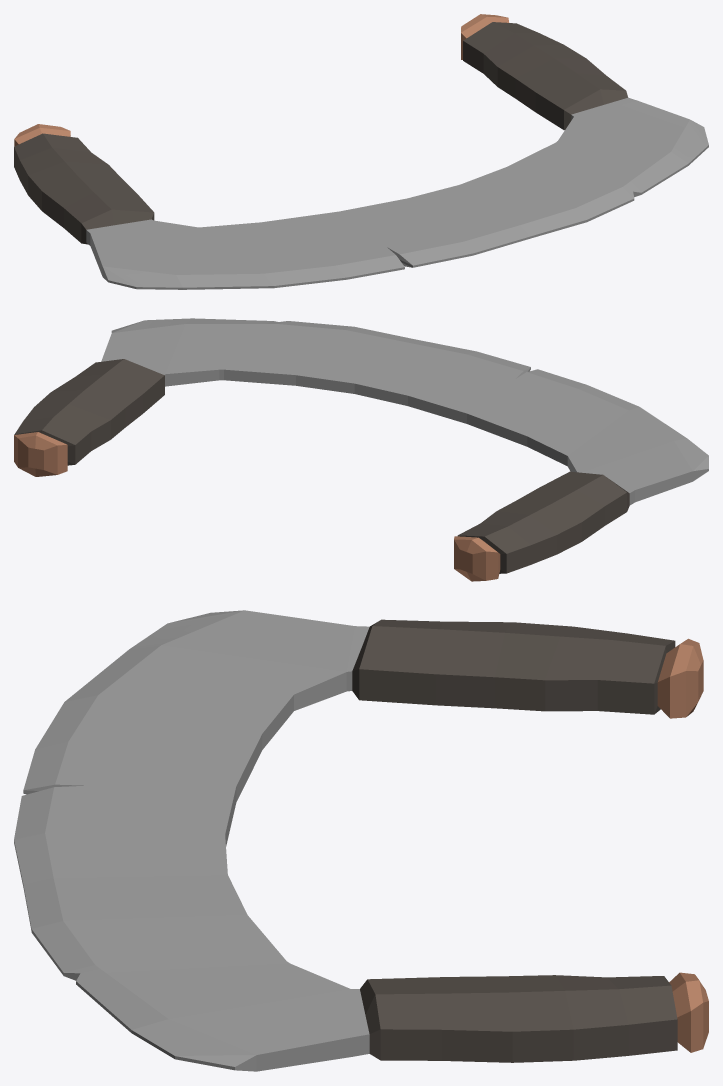
File: HerbCutter.fbx
3 views of the same model, one above another, from view 1: azimuth 30°, elevation 25°; view 2: azimuth 150°, elevation 25°; view 3: azimuth 270°, elevation 25° (orthographic). The views are drawn at different scales.
Visible parts, largest first — view 1: pPlane5; view 2: pPlane5; view 3: pPlane5.
Boxes of the visible parts, left/top/right/bottom form: pPlane5: left=14, top=14, right=708, bottom=289; pPlane5: left=14, top=318, right=708, bottom=581; pPlane5: left=14, top=610, right=708, bottom=1071.
Size of the model in its own units: 1.3 by 0.0874 by 0.8387.
